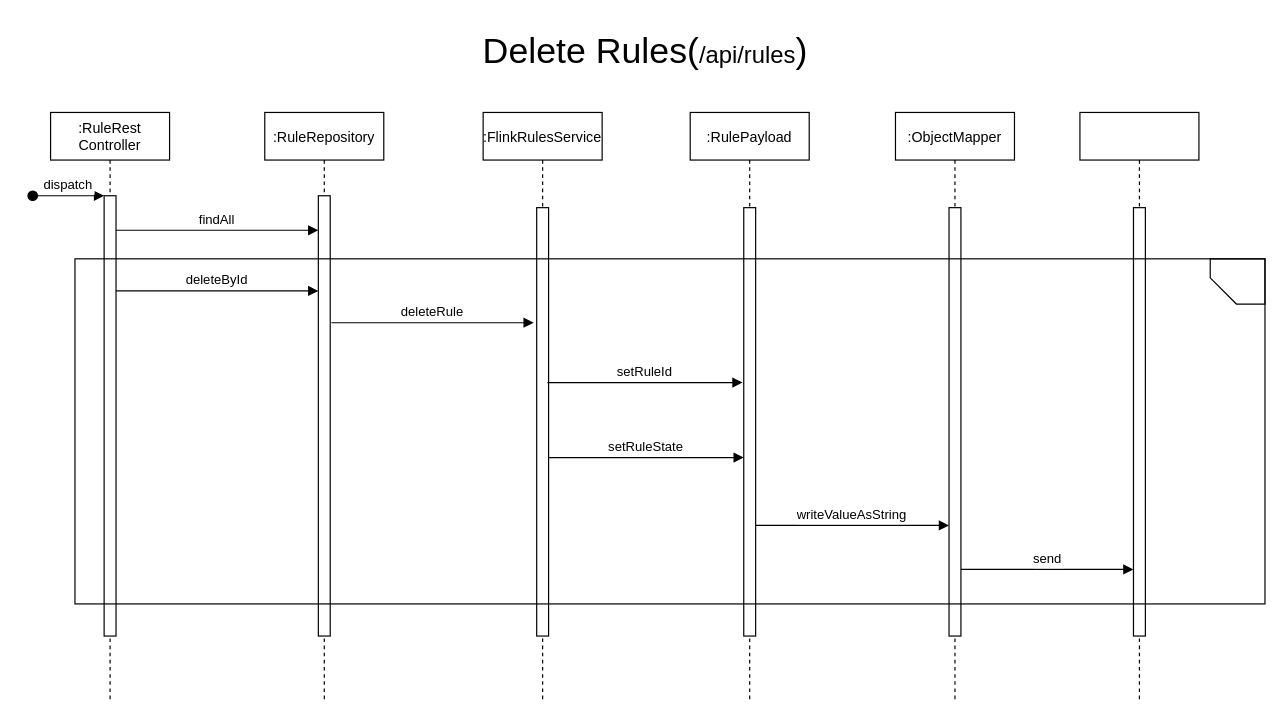
The diagram is 1286 pixels wide and 720 high, and some of its shapes have lost their labels. The shapes that lost their labels are listed below. From the top down, each one's box as (x1, y1, x2, y2) in pixels, then its label:
(1209, 258, 1265, 304): Loop
(1079, 111, 1199, 699): :KafkaTemplate
